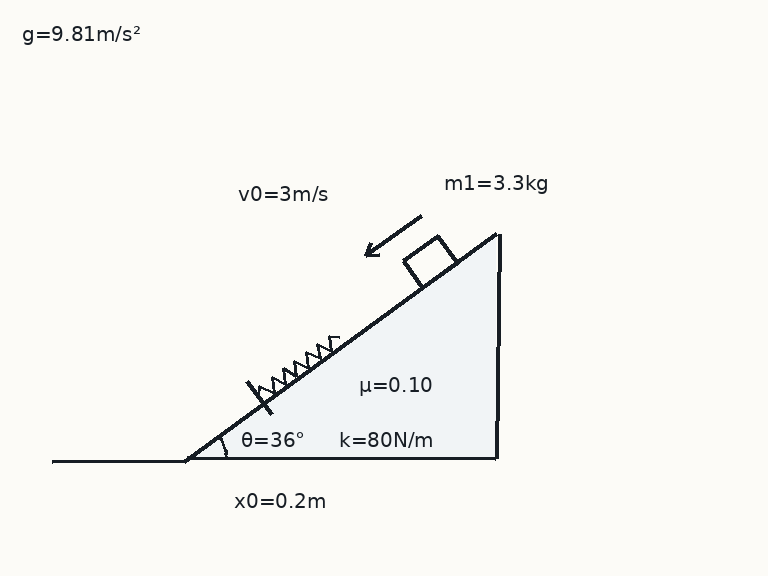block: (400, 234, 459, 290)
ramp: (184, 232, 498, 461)
spring: (256, 333, 341, 397)
